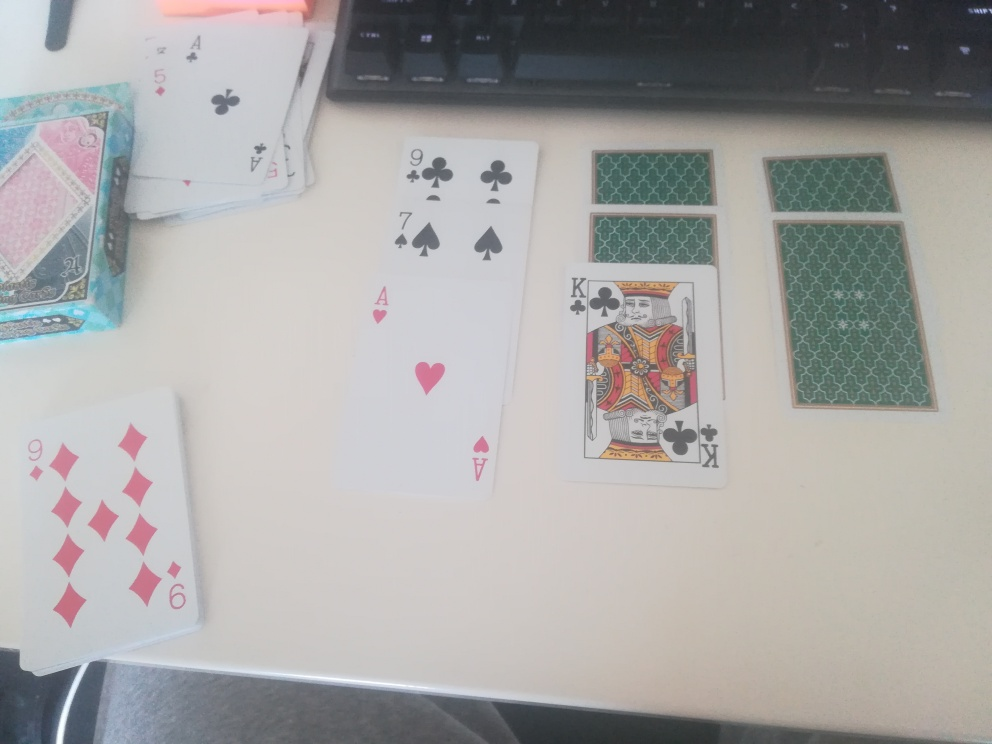7S: (392, 207, 416, 251)
9C: (404, 144, 426, 185)
9D: (18, 434, 51, 492)
AH: (363, 281, 394, 332)
BACK: (771, 220, 941, 416), (759, 151, 905, 215), (587, 148, 721, 209), (586, 211, 721, 269)
KC: (566, 275, 591, 321)
